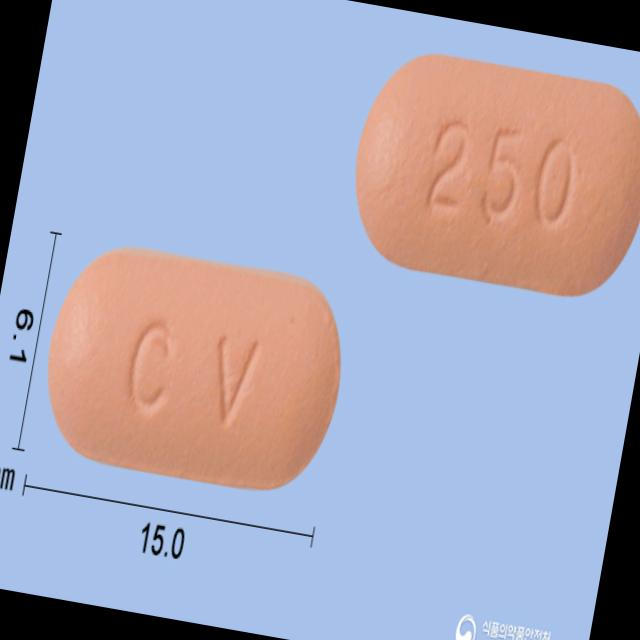Cravit - 500mg: (33, 234, 357, 501), (337, 39, 640, 308)
